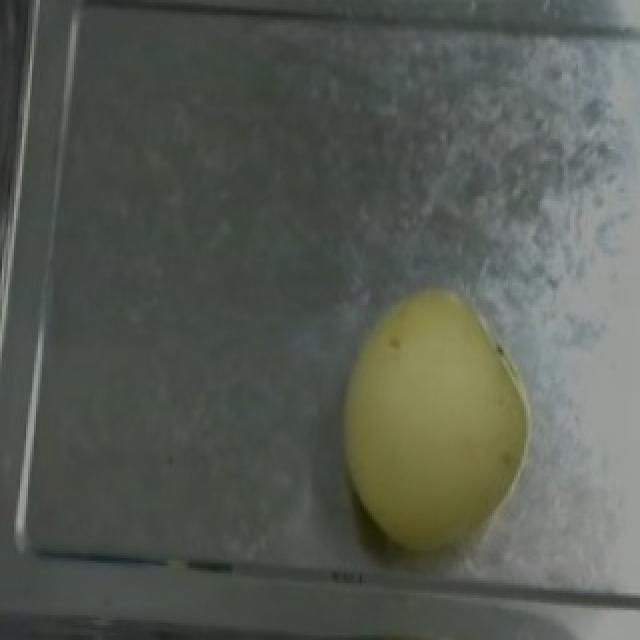Fruit: (324, 273, 544, 558)
